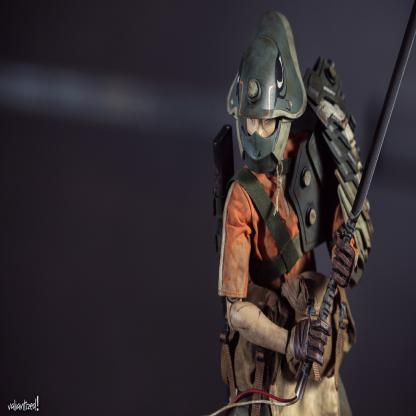Helmet: (229, 28, 311, 177)
